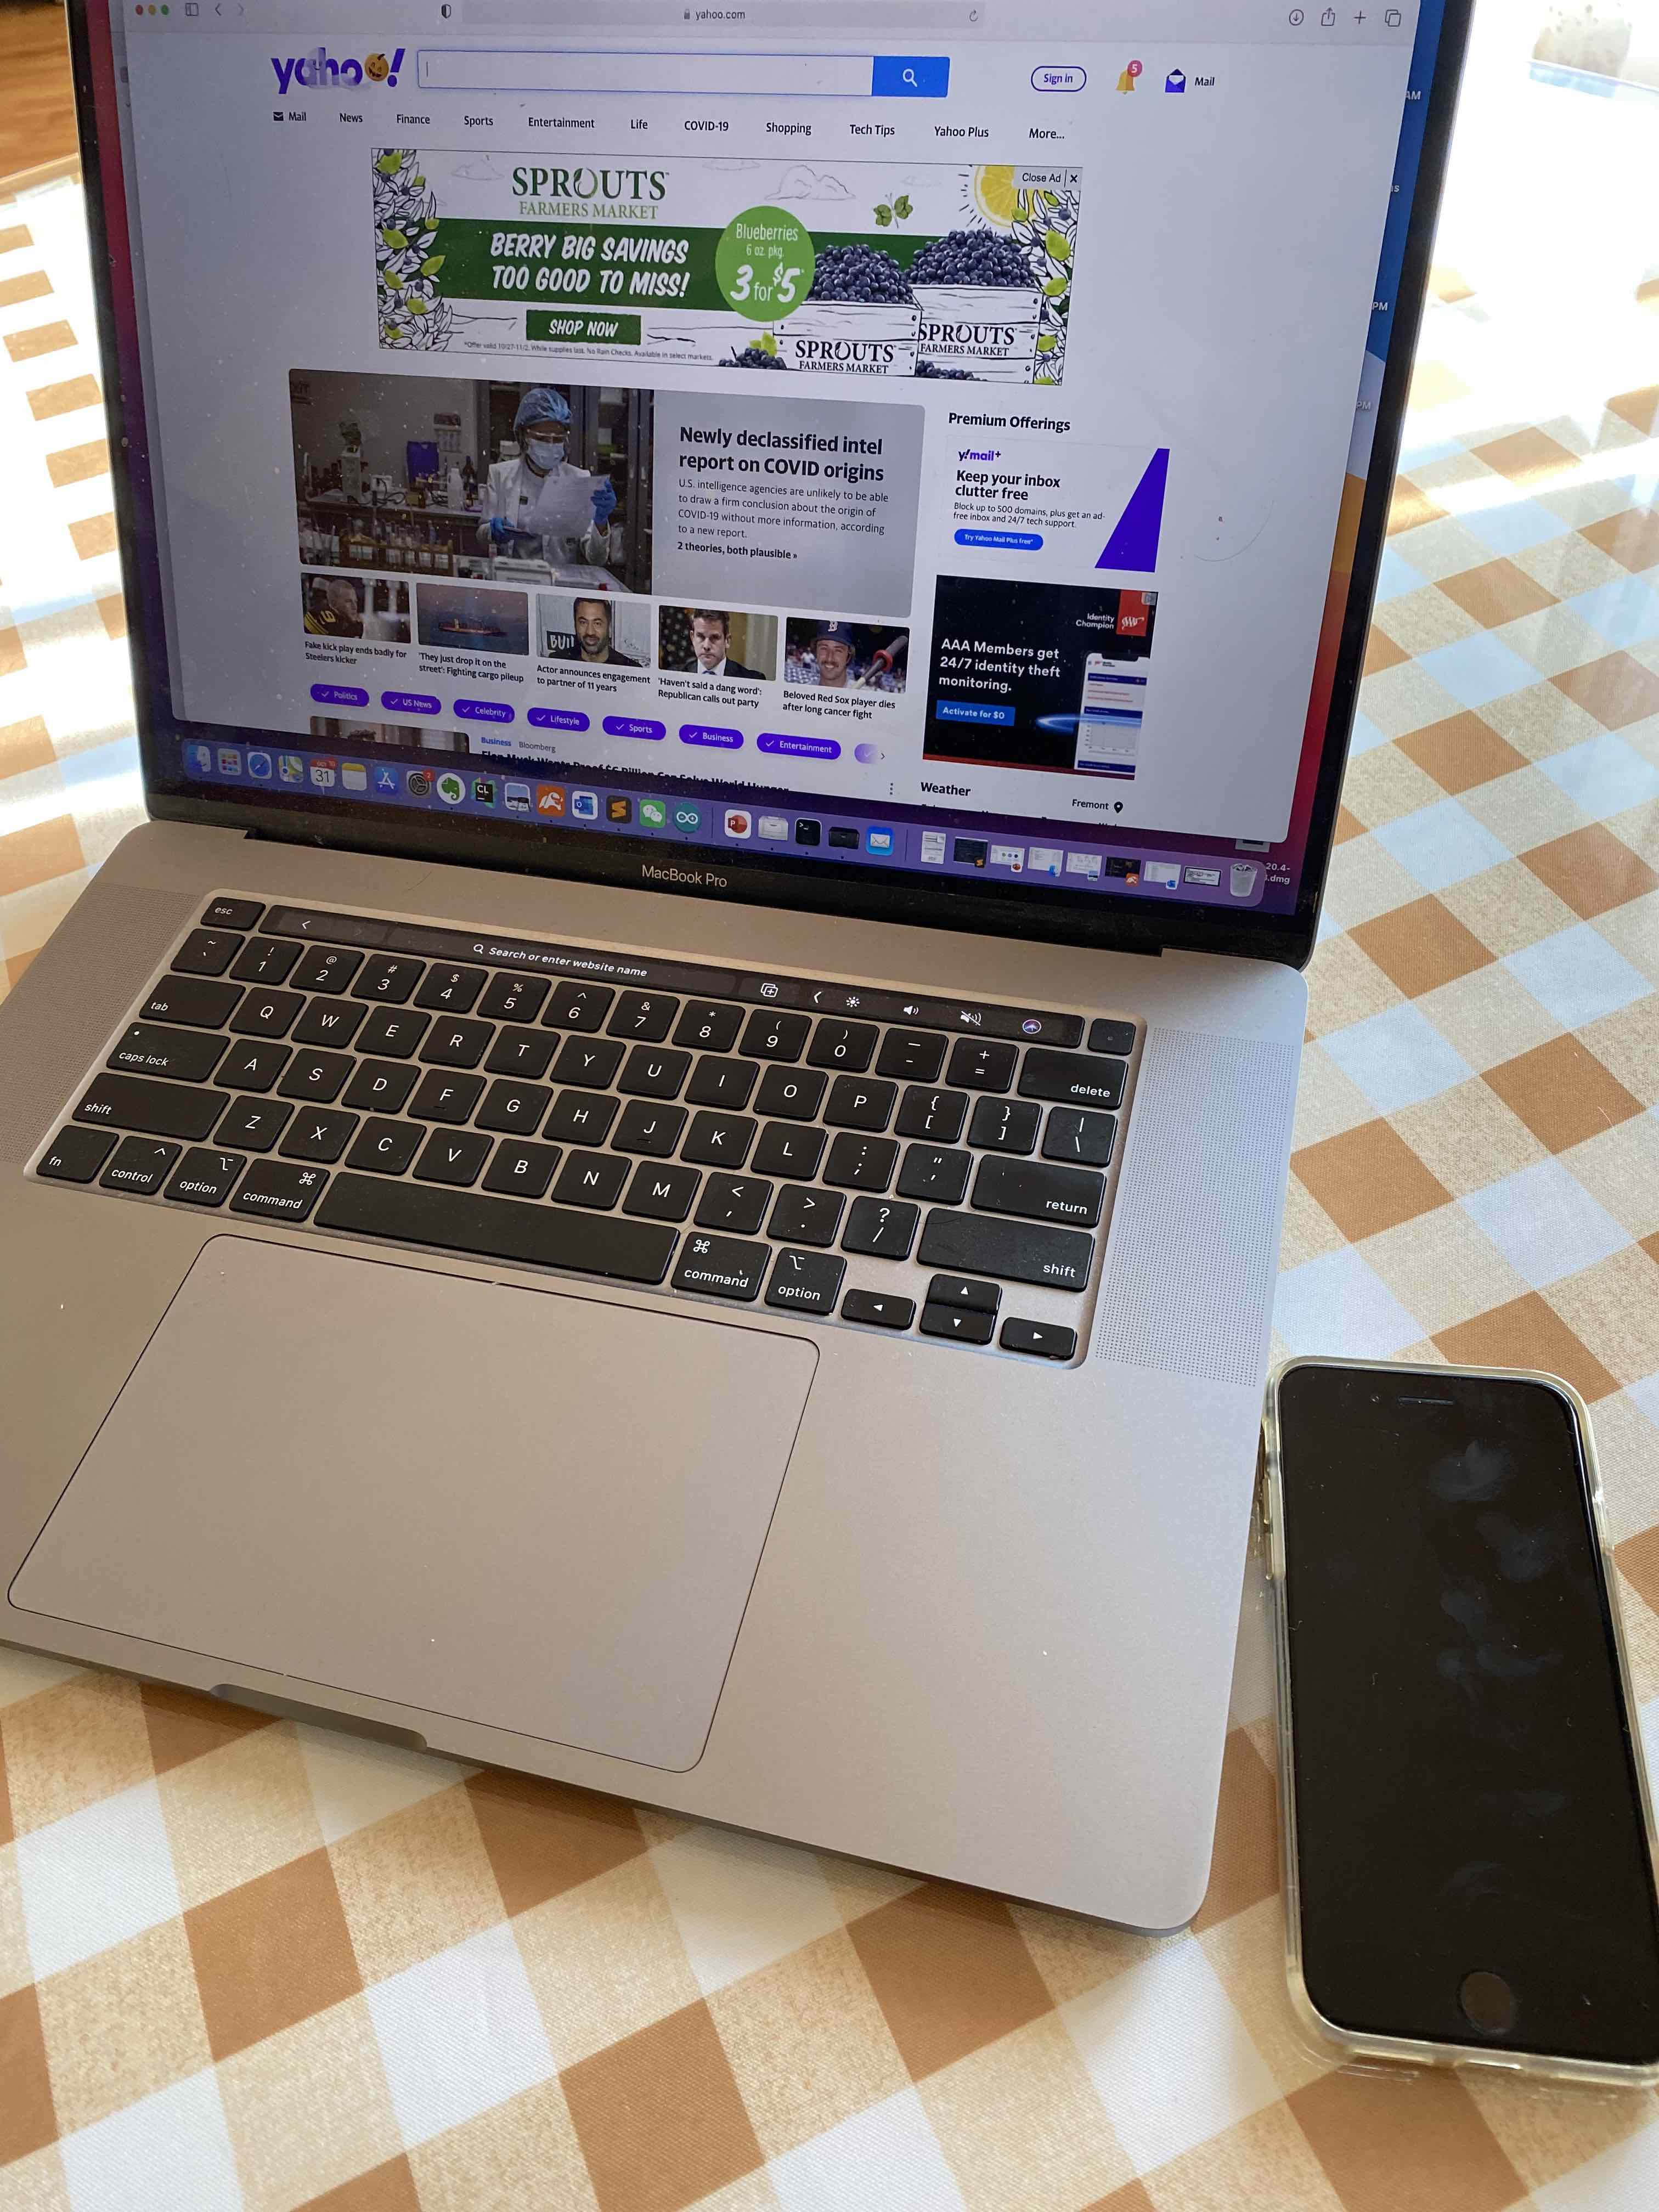Cell Phone: (1274, 1355, 1659, 2099)
